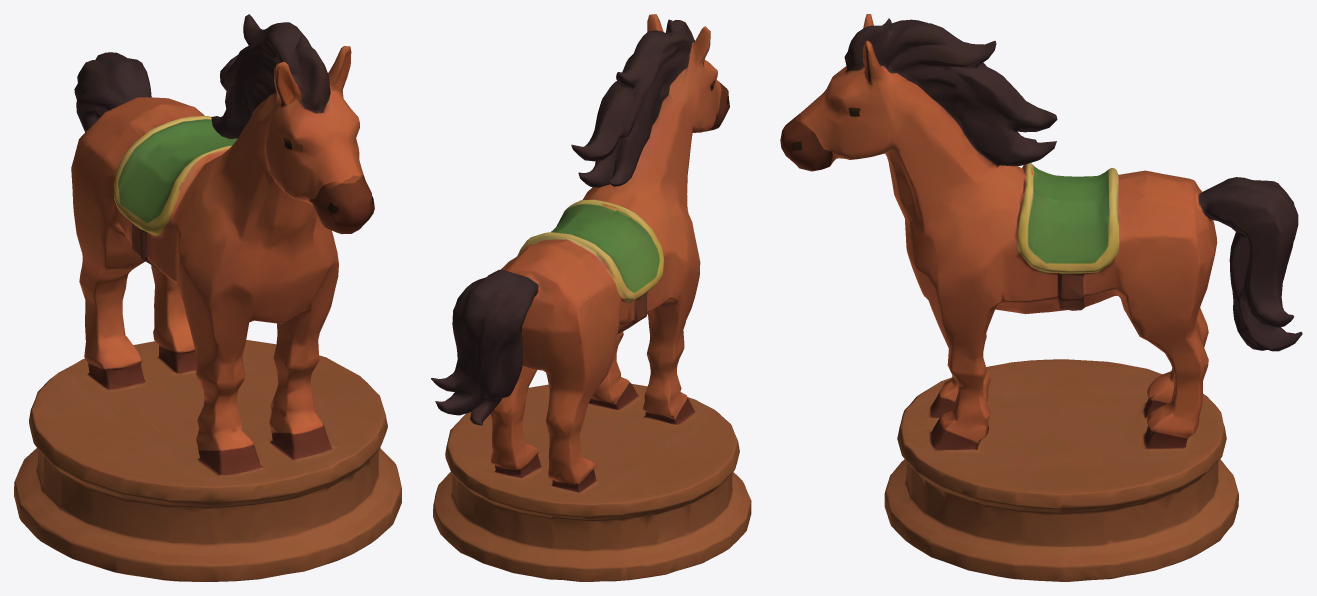
The model's file is hyrule_knight_epona.glb.
The picture shows the model from 3 angles, left to right: view 1: azimuth 30°, elevation 25°; view 2: azimuth 150°, elevation 25°; view 3: azimuth 270°, elevation 25°; orthographic projection. The views are drawn at different scales.
Parts seen in each view (by area): view 1: tripo_node_daa6802c-4fa7-4b4c-a83c-ea3af3319f92; view 2: tripo_node_daa6802c-4fa7-4b4c-a83c-ea3af3319f92; view 3: tripo_node_daa6802c-4fa7-4b4c-a83c-ea3af3319f92.
Part boxes in pixels (<box>): tripo_node_daa6802c-4fa7-4b4c-a83c-ea3af3319f92: <box>14,14,401,581</box>; tripo_node_daa6802c-4fa7-4b4c-a83c-ea3af3319f92: <box>431,14,751,581</box>; tripo_node_daa6802c-4fa7-4b4c-a83c-ea3af3319f92: <box>780,14,1302,581</box>.
Size of the model in its own units: 0.623 by 0.9477 by 0.9171.
1 material, 1 textured.
